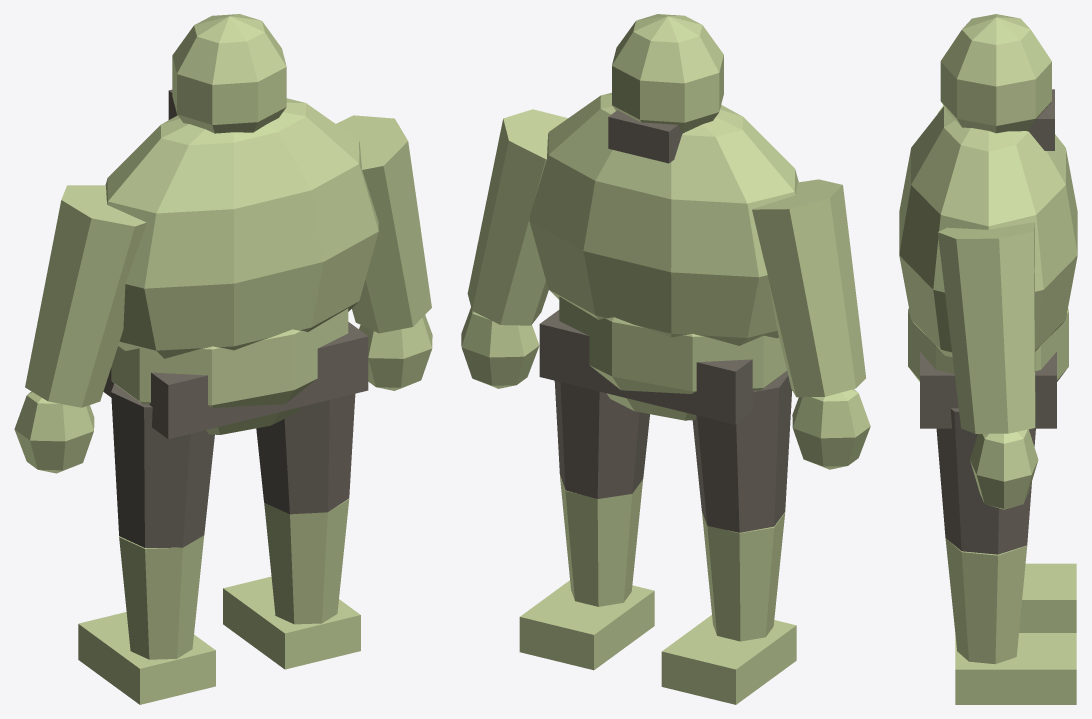
The model's file is char_zombie_common_02.glb.
The picture shows the model from 3 angles, left to right: view 1: azimuth 30°, elevation 25°; view 2: azimuth 150°, elevation 25°; view 3: azimuth 270°, elevation 25°; orthographic projection. The views are drawn at different scales.
Visible parts, largest first — view 1: char_zombie_common_02; view 2: char_zombie_common_02; view 3: char_zombie_common_02.
Boxes of the visible parts, x1=… form: char_zombie_common_02: x1=14, y1=14, x2=432, y2=704; char_zombie_common_02: x1=461, y1=14, x2=870, y2=704; char_zombie_common_02: x1=899, y1=14, x2=1077, y2=704.
Size of the model in its own units: 1.19 by 1.79 by 0.4565.
